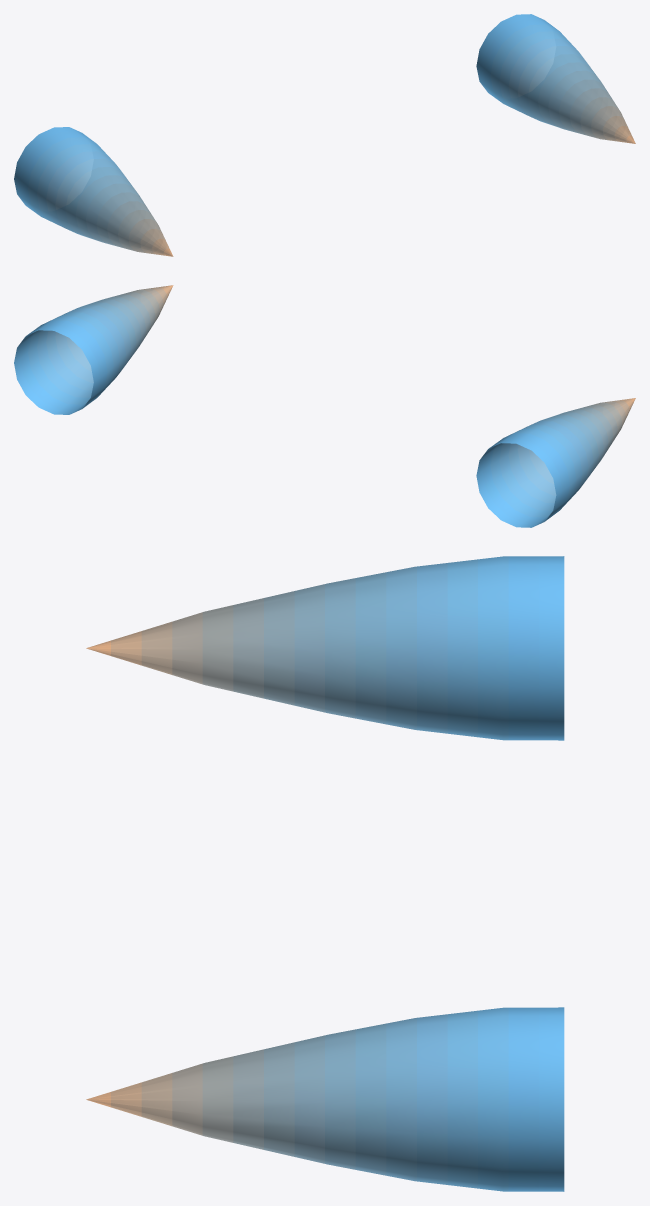
File: plane_jetFire.fbx
The picture shows the model from 3 angles, top to bottom: view 1: azimuth 30°, elevation 25°; view 2: azimuth 150°, elevation 25°; view 3: azimuth 270°, elevation 25°; orthographic projection. The views are drawn at different scales.
Parts seen in each view (by area): view 1: JetFire; view 2: JetFire; view 3: JetFire.
Part boxes in pixels (x1,y1,x2,y2): JetFire: [14, 14, 635, 256]; JetFire: [14, 285, 635, 527]; JetFire: [86, 556, 564, 1191].
Bounding box in the file's own units: 72.12 × 10.63 × 27.56.
